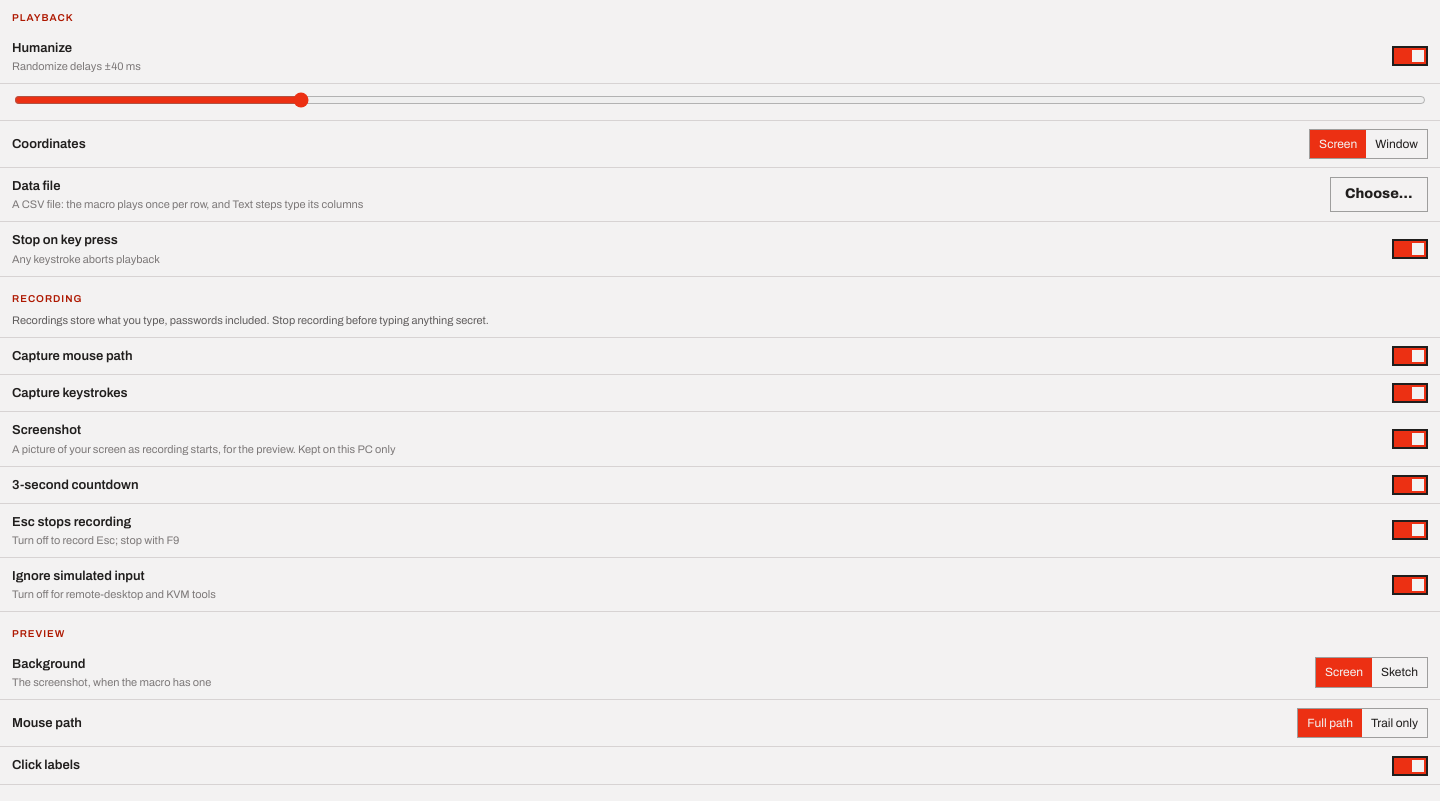
Settings tab › the jitter slider is off while Humanize is
Expected: the slider named "Jitter" is enabled, [14,92,1426,108]
Step 1. Click the switch named "Humanize" → (1410, 56), box [1392,46,1428,66]
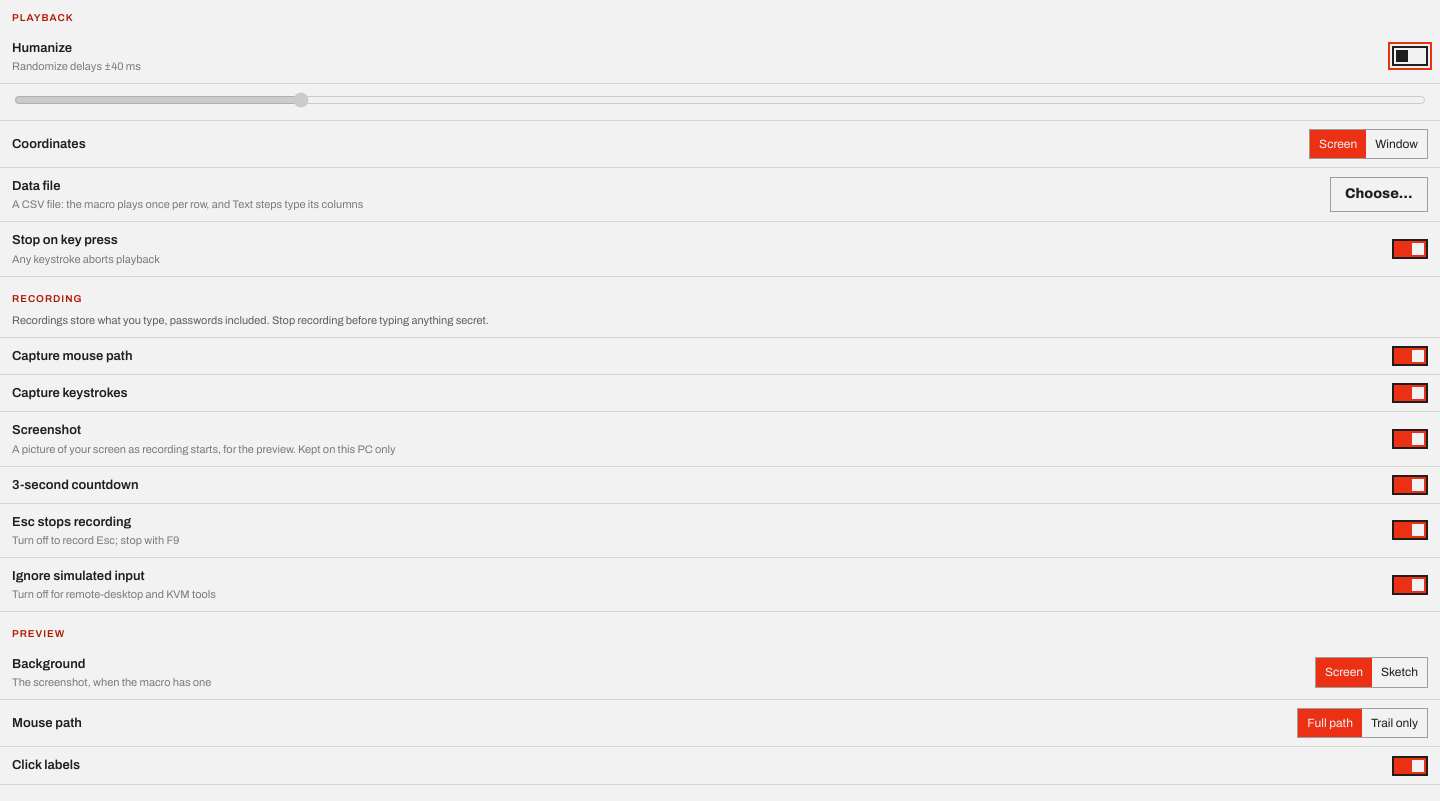
Result: the slider named "Jitter" is disabled at [14,92,1426,108]
